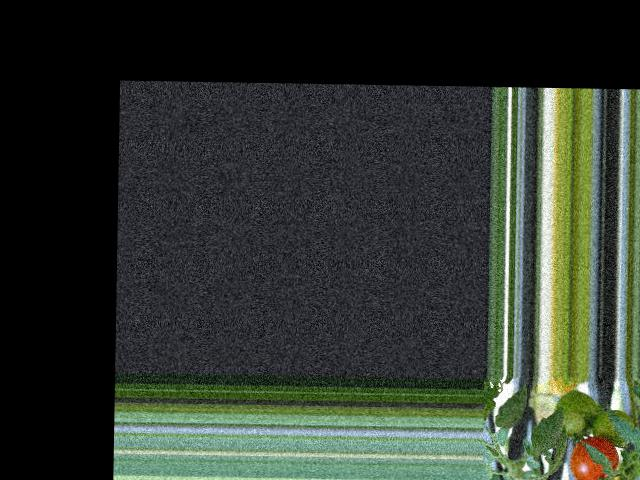tomato: (569, 436, 618, 480)
